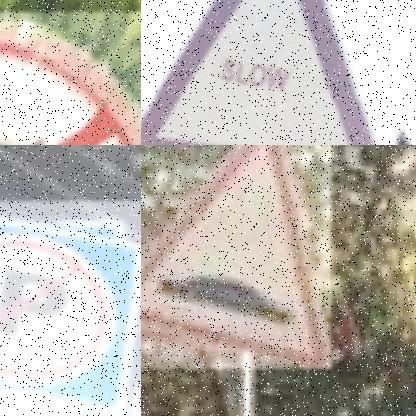No right turn: (0, 15, 141, 145)
Slow: (141, 0, 378, 145)
Speed Breaker Ahead: (141, 145, 330, 368)
